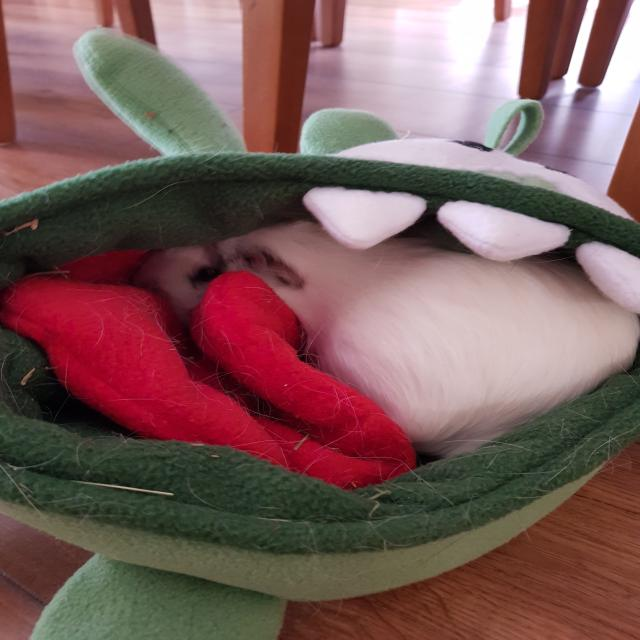guinea pig: (126, 217, 640, 461)
